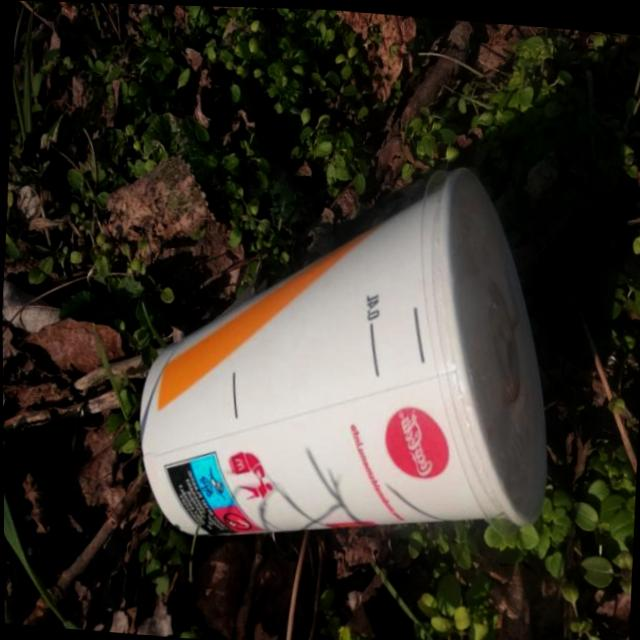Cup: (126, 136, 564, 570)
